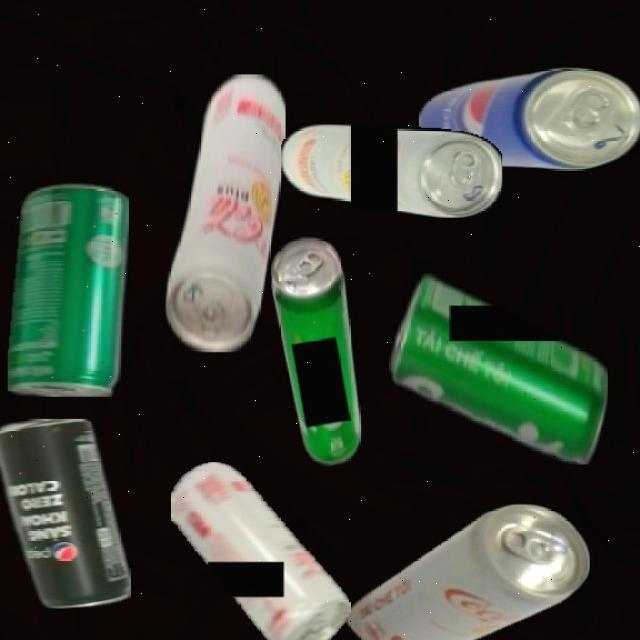debris: (388, 272, 608, 464), (164, 74, 286, 352), (343, 503, 590, 640), (170, 461, 350, 640), (264, 231, 376, 470), (7, 183, 129, 397), (0, 419, 130, 609), (418, 67, 640, 170), (280, 124, 502, 218)
